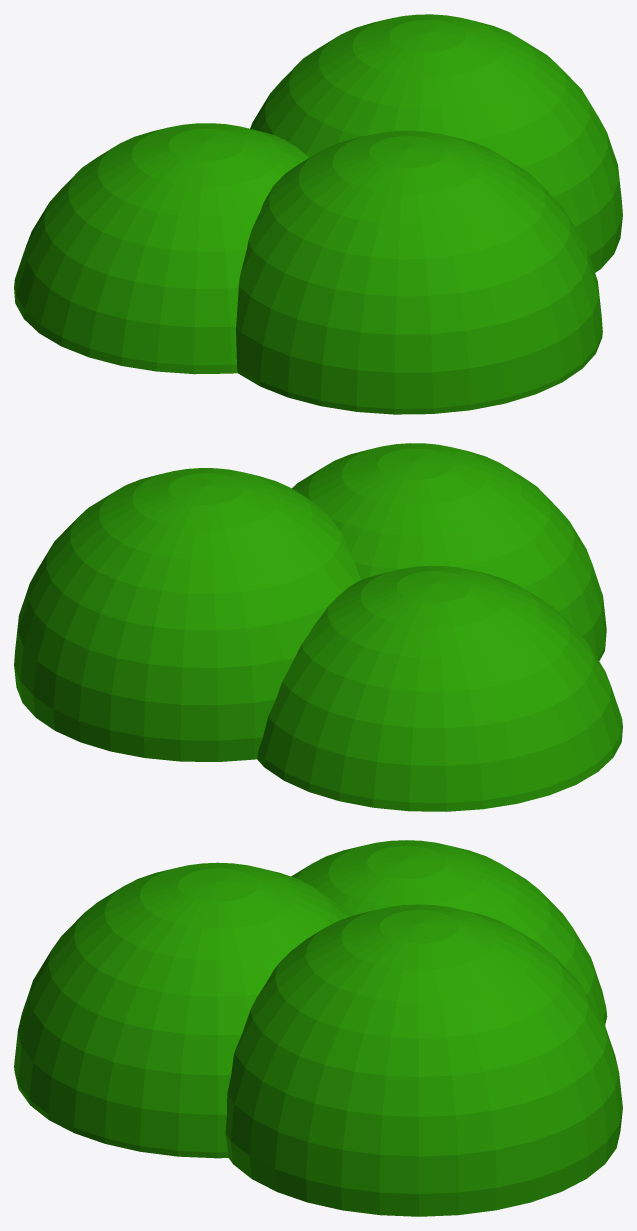
Rendered from Bush.fbx.
3 views of the same model, one above another, from view 1: azimuth 30°, elevation 25°; view 2: azimuth 150°, elevation 25°; view 3: azimuth 270°, elevation 25° (orthographic). The views are drawn at different scales.
Visible parts, largest first — view 1: Sphere.002; view 2: Sphere.002; view 3: Sphere.002.
Part boxes in pixels (x1,y1,x2,y2): Sphere.002: (14,14,622,414); Sphere.002: (14,443,622,811); Sphere.002: (14,840,622,1216).
Bounding box in the file's own units: 332 × 113 × 299.
